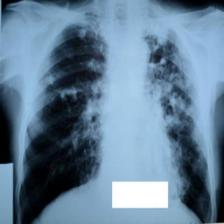tuberculosis: (14, 11, 216, 224)
